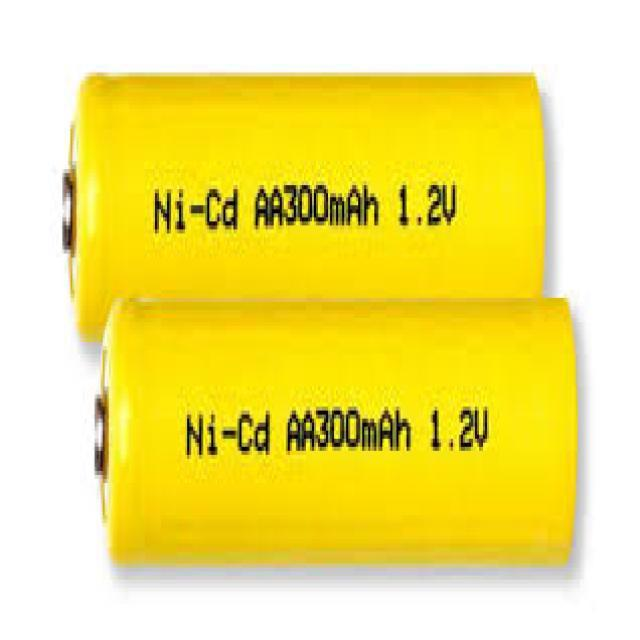Battery: (34, 63, 549, 352), (66, 294, 587, 578)
